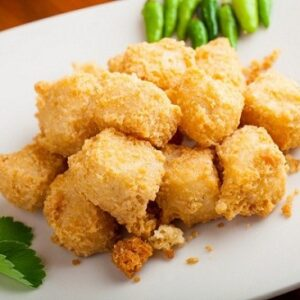Tahu: (202, 122, 291, 205), (177, 37, 238, 136), (74, 72, 164, 139), (65, 137, 157, 198), (159, 139, 225, 212), (51, 190, 119, 253), (10, 135, 65, 197)
